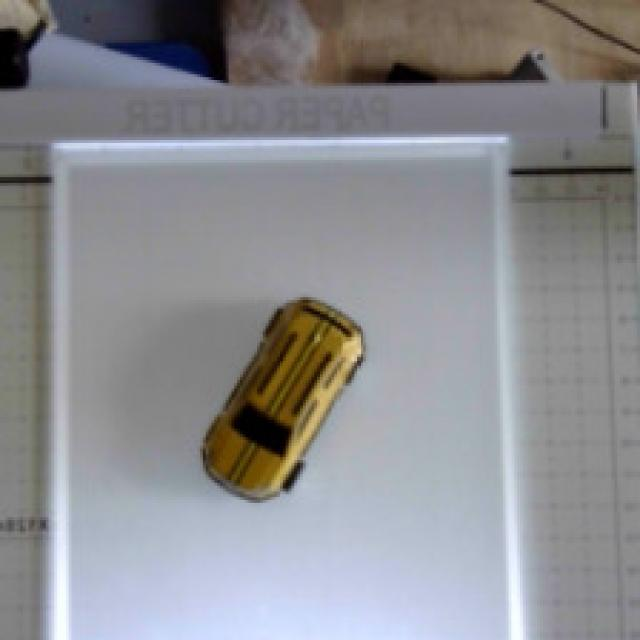Yellow Car: (149, 255, 402, 519)
